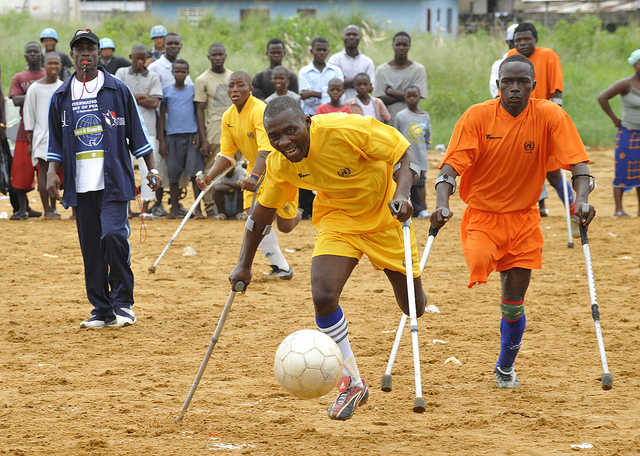person: (440, 58, 581, 385), (247, 97, 434, 326), (56, 27, 150, 328), (210, 66, 286, 283), (585, 44, 640, 230), (168, 60, 196, 211), (378, 25, 432, 89), (504, 22, 567, 60), (335, 20, 377, 74), (388, 84, 438, 128), (35, 48, 56, 151), (127, 41, 152, 100), (307, 38, 338, 78), (263, 63, 301, 95), (258, 40, 298, 66), (351, 72, 384, 103), (21, 45, 45, 87), (204, 41, 235, 71), (157, 31, 191, 57), (322, 77, 351, 106), (95, 35, 121, 66), (37, 24, 58, 49)
